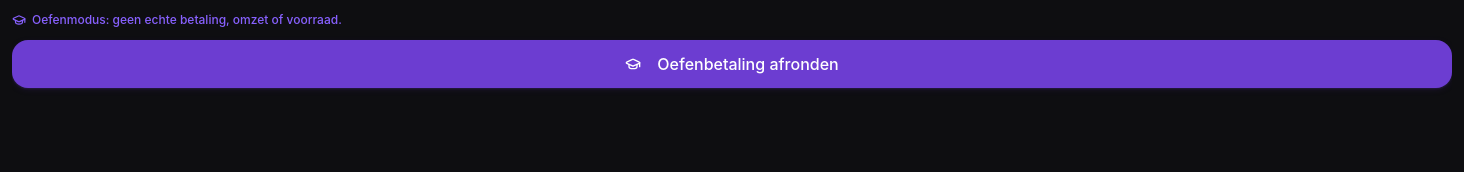
Scenario: Kassa oefenmodus › refusal or network error: no success, retry reuses the same request id
Click the button "Oefenbetaling afronden" at (732, 64), box [12,40,1452,88]
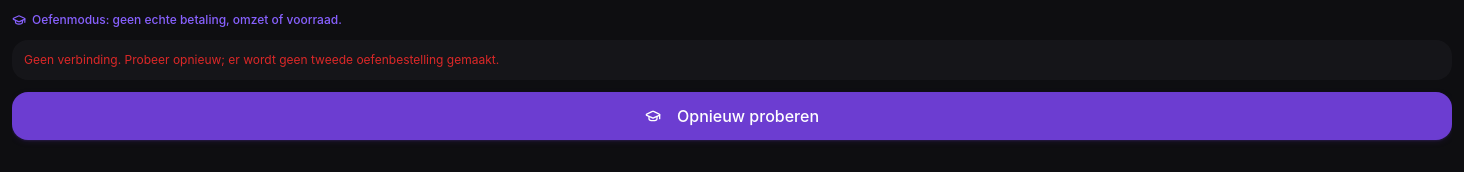
Now the text "Geen verbinding" is shown, box [24,52,499,67]
Click the button "Opnieuw proberen" at (732, 116), box [12,92,1452,140]
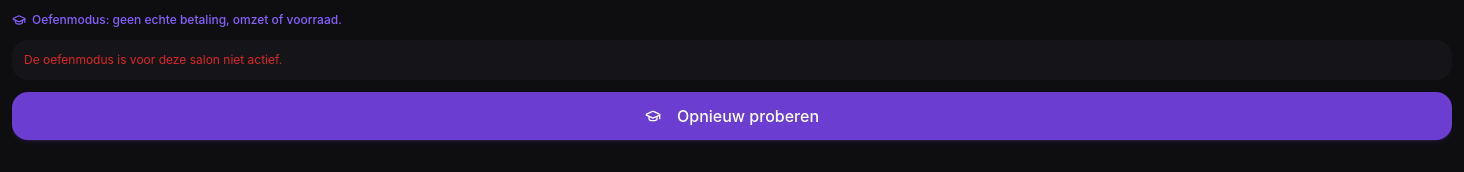
Now the text "De oefenmodus is voor deze salon niet actief." is shown, box [24,52,282,67]
